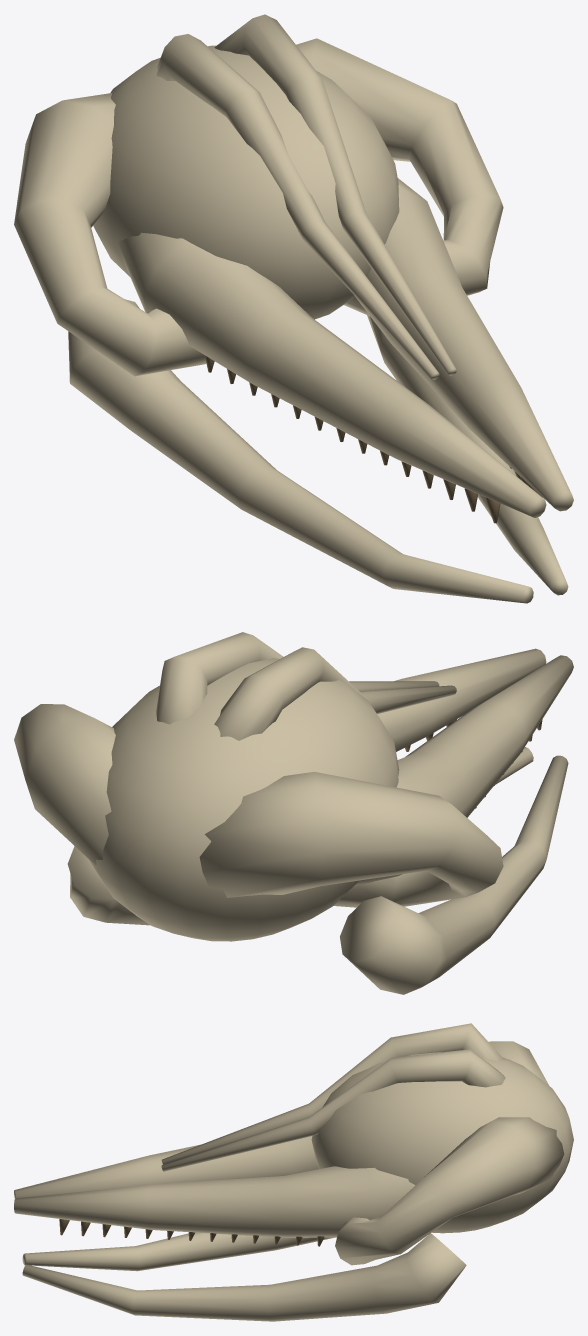
Rendered from baleen_skull.glb.
3 views of the same model, one above another, from view 1: azimuth 30°, elevation 25°; view 2: azimuth 150°, elevation 25°; view 3: azimuth 270°, elevation 25° (orthographic). The views are drawn at different scales.
Parts seen in each view (by area): view 1: baleen_skull; view 2: baleen_skull; view 3: baleen_skull.
Boxes of the visible parts, x1,y1,x2,y2 form: baleen_skull: (14, 14, 573, 603); baleen_skull: (14, 632, 573, 994); baleen_skull: (14, 1023, 573, 1321).
Bounding box in the file's own units: 4.16 × 3.3 × 6.62.
